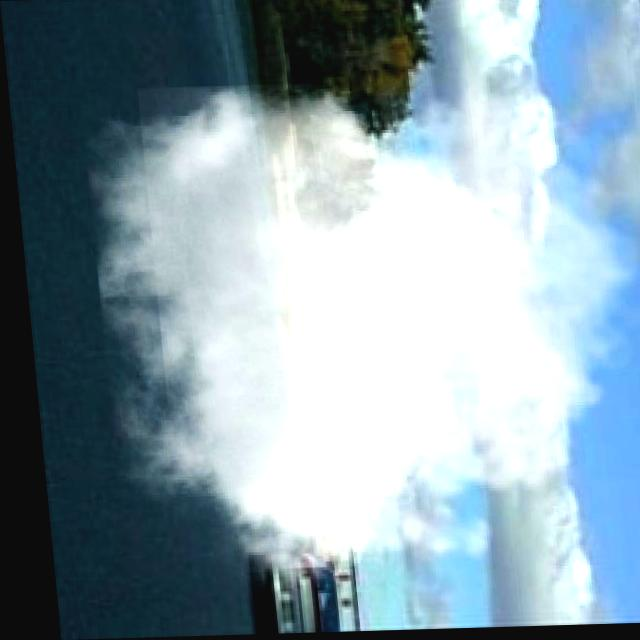Smoke: (78, 76, 640, 604)
